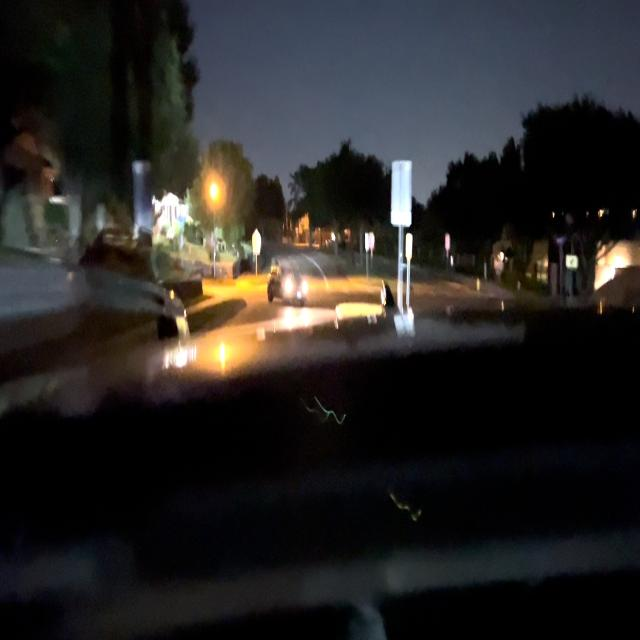back-of-sign: (391, 160, 411, 225)
